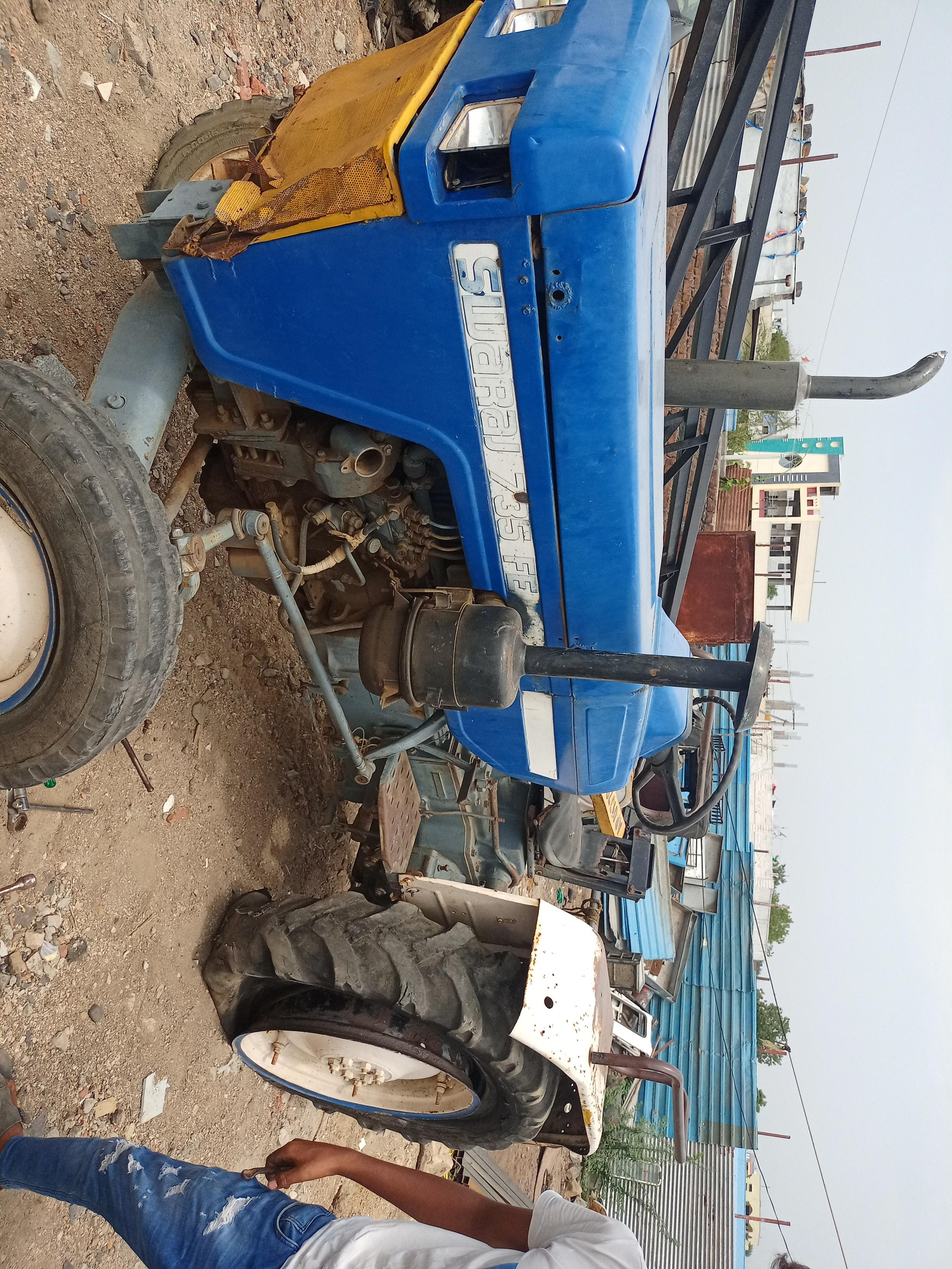Non-emergency: (0, 0, 841, 1103)
